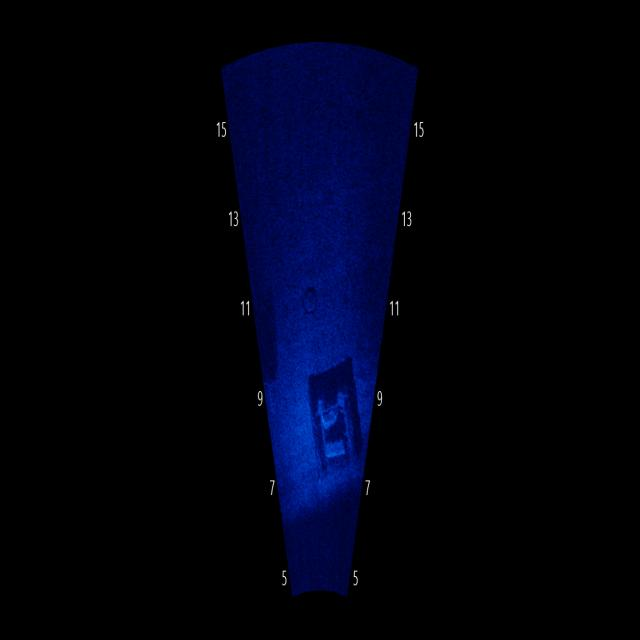square: (304, 355, 368, 487)
